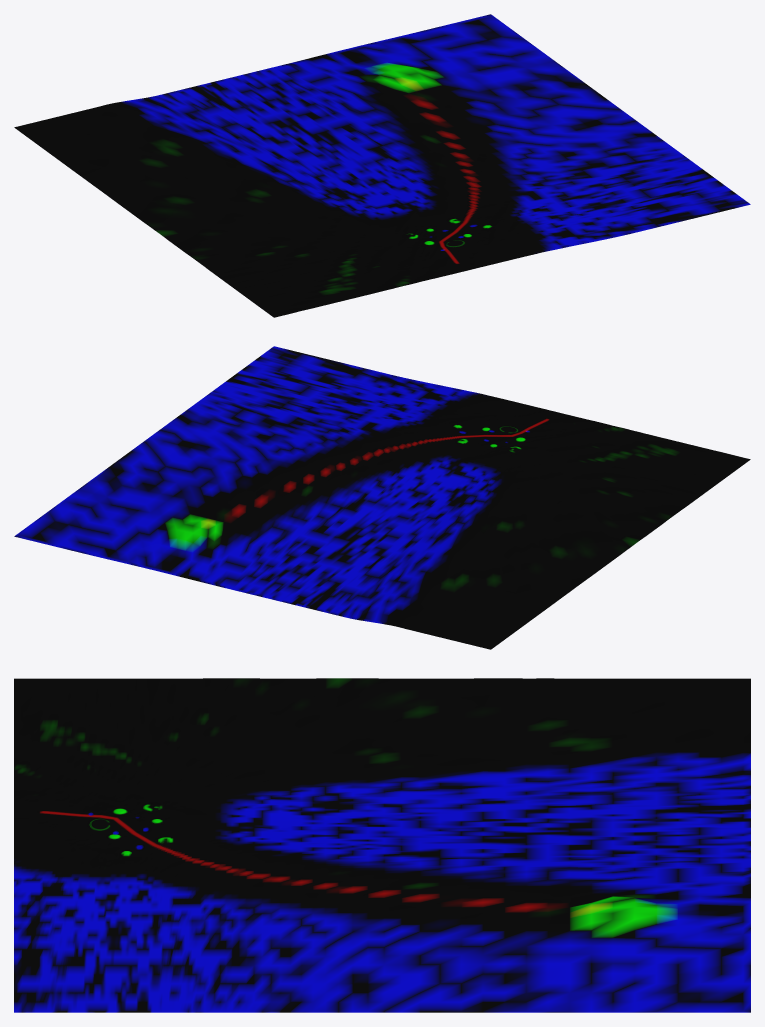
The model's file is arena_causeway_route_ground.glb.
The picture shows the model from 3 angles, top to bottom: view 1: azimuth 30°, elevation 25°; view 2: azimuth 150°, elevation 25°; view 3: azimuth 270°, elevation 25°; orthographic projection. The views are drawn at different scales.
Parts seen in each view (by area): view 1: arena_causeway_route_ground; view 2: arena_causeway_route_ground; view 3: arena_causeway_route_ground.
Part boxes in pixels (<box>): arena_causeway_route_ground: <box>14,14,750,317</box>; arena_causeway_route_ground: <box>14,346,750,649</box>; arena_causeway_route_ground: <box>14,678,750,1012</box>.
Size of what is drawn, in the model's own units: 360 by 5.14 by 340.
